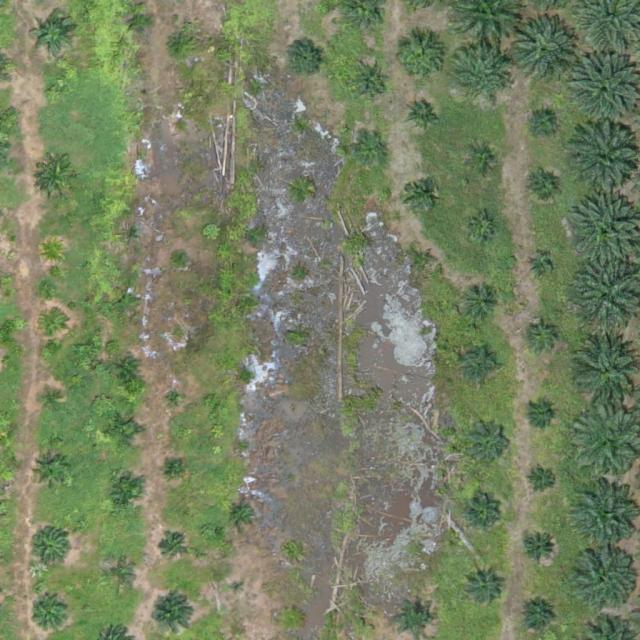Healthy: (507, 16, 578, 87), (570, 485, 640, 556), (574, 546, 636, 609), (455, 48, 509, 103)
Small: (392, 31, 447, 86), (30, 13, 77, 60), (466, 418, 513, 465), (463, 497, 503, 537), (352, 63, 391, 103), (37, 158, 77, 197), (395, 598, 435, 637), (107, 473, 146, 513), (33, 597, 72, 637), (463, 345, 502, 385), (518, 598, 557, 638), (520, 528, 559, 568), (286, 38, 325, 77), (32, 453, 71, 492), (31, 528, 70, 567), (464, 285, 503, 324), (464, 567, 503, 606), (407, 96, 446, 135), (106, 412, 145, 451), (528, 321, 559, 353), (124, 7, 155, 39), (163, 29, 194, 61), (525, 398, 556, 430), (158, 532, 189, 564), (356, 138, 387, 169), (404, 178, 435, 209), (468, 213, 499, 244), (468, 145, 499, 176), (105, 560, 136, 591), (528, 466, 559, 497), (529, 108, 560, 139), (530, 173, 561, 204), (229, 500, 260, 531), (414, 249, 438, 273), (41, 240, 65, 264), (529, 255, 553, 279), (281, 608, 305, 632), (165, 388, 189, 412), (117, 358, 141, 382), (42, 316, 66, 340), (42, 391, 66, 415), (115, 290, 139, 314), (121, 224, 144, 248), (231, 579, 247, 595), (166, 461, 182, 477), (47, 85, 63, 100), (174, 249, 189, 264), (172, 118, 187, 133)
